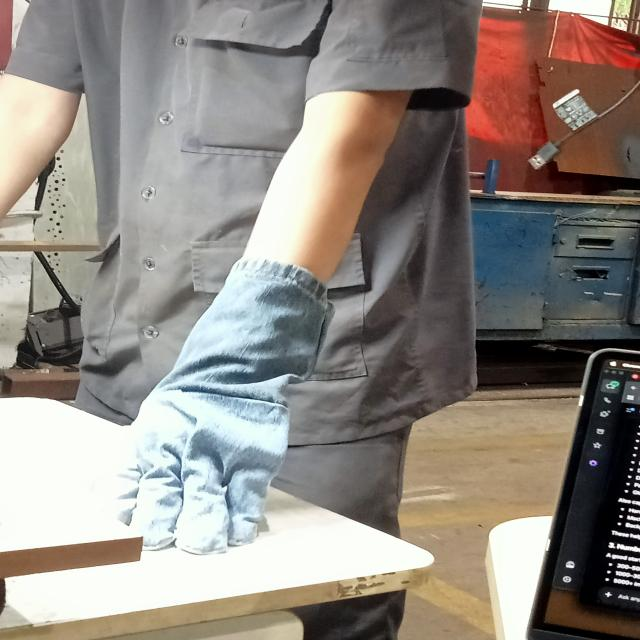Gloves-Detection: (134, 262, 342, 534)
